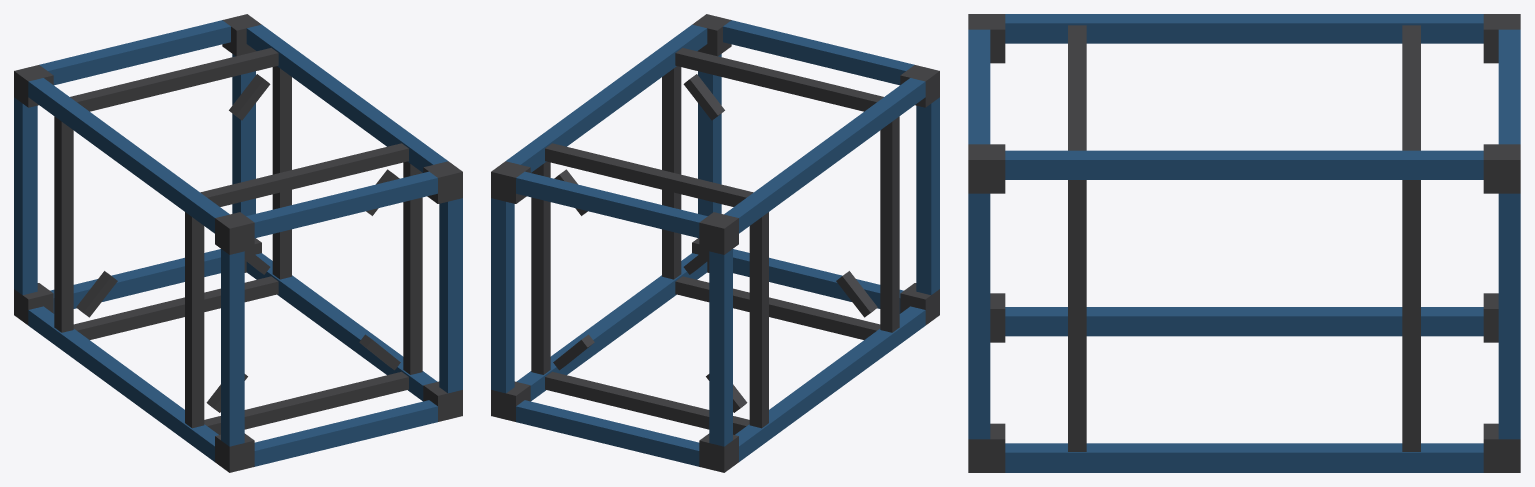
Rendered from jcharge_frame.obj.
3 views of the same model, side by side, from view 1: azimuth 30°, elevation 25°; view 2: azimuth 150°, elevation 25°; view 3: azimuth 270°, elevation 25° (orthographic). The views are drawn at different scales.
Parts seen in each view (by area): view 1: jcharge_frame; view 2: jcharge_frame; view 3: jcharge_frame.
Boxes of the visible parts, bbox=[...] form: jcharge_frame: bbox=[14, 14, 462, 472]; jcharge_frame: bbox=[491, 14, 939, 472]; jcharge_frame: bbox=[968, 14, 1520, 472].
Size of the model in its own units: 0.93 by 0.93 by 1.49.
